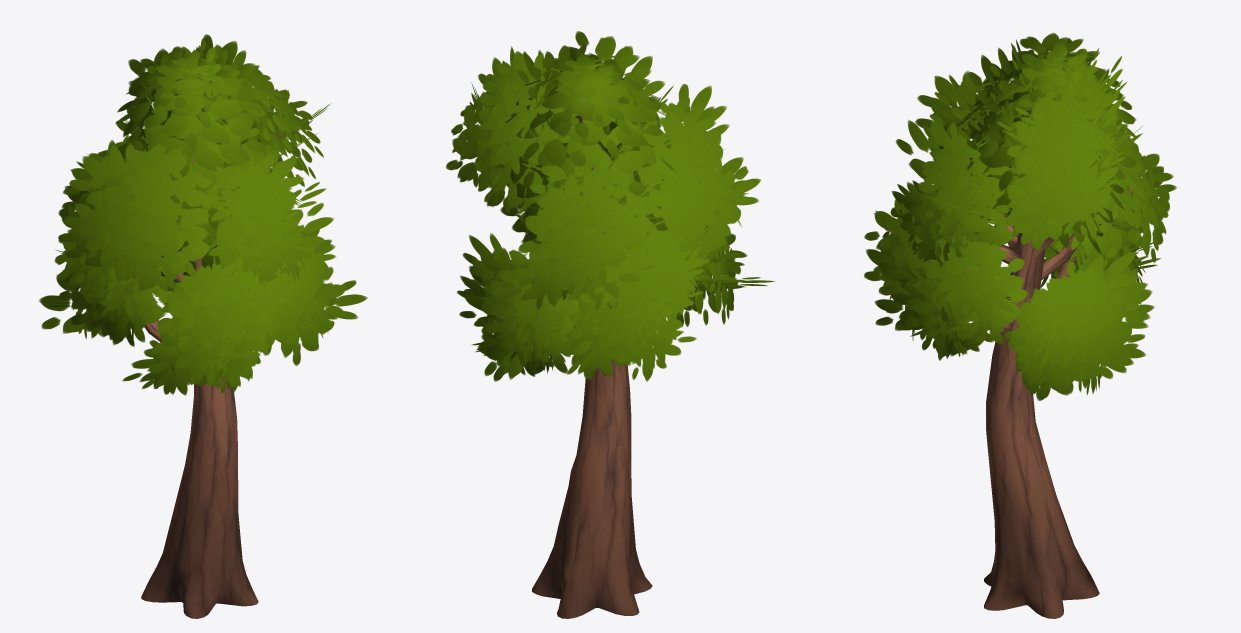
File: tree_a.glb
3 views of the same model, side by side, from view 1: azimuth 30°, elevation 25°; view 2: azimuth 150°, elevation 25°; view 3: azimuth 270°, elevation 25° (orthographic). The views are drawn at different scales.
Parts seen in each view (by area): view 1: CommonTree_1; view 2: CommonTree_1; view 3: CommonTree_1.
Part boxes in pixels (left/top/right/bottom): CommonTree_1: left=39, top=34, right=367, bottom=618; CommonTree_1: left=446, top=31, right=775, bottom=618; CommonTree_1: left=864, top=33, right=1176, bottom=618.
Bounding box in the file's own units: 4.31 × 7.26 × 4.58.
2 materials, 2 textured.
